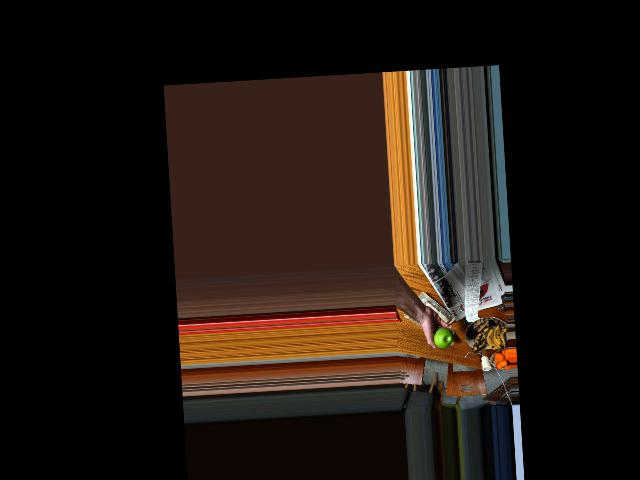apple: (432, 325, 453, 349)
